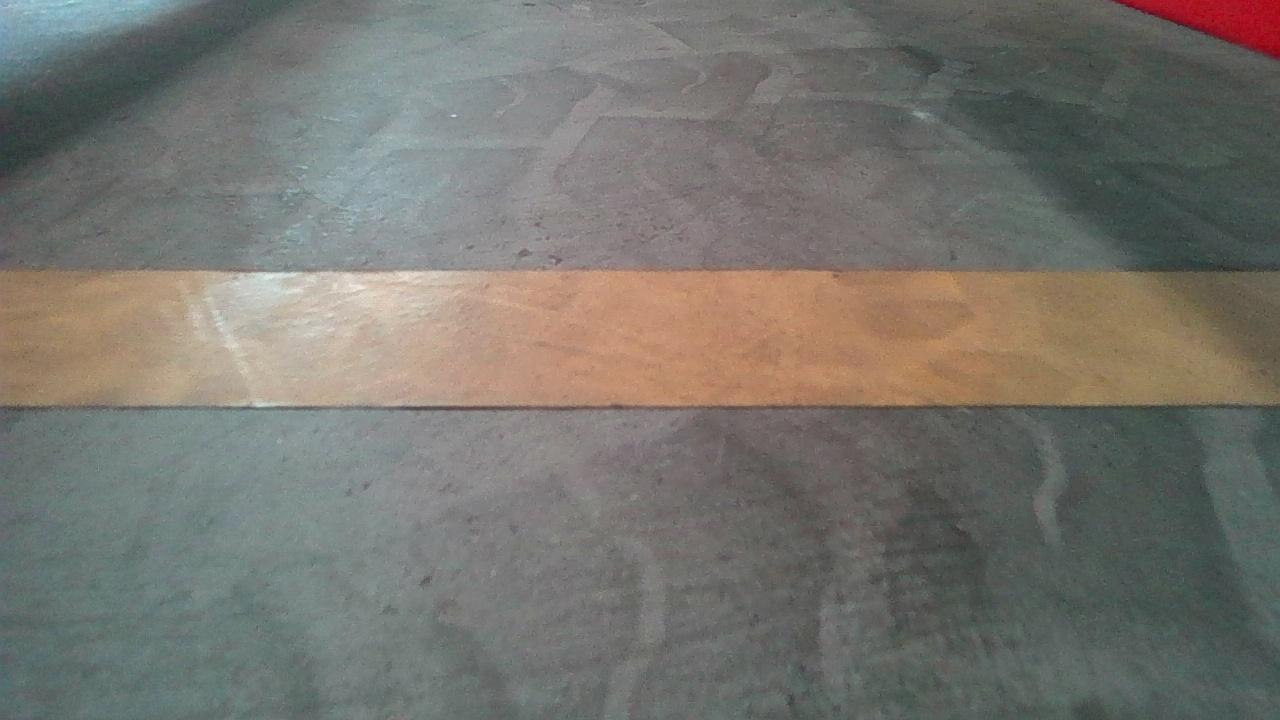yellow_line: (0, 252, 1276, 426)
